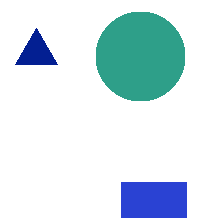circle: (96, 12, 184, 100)
rectangle: (121, 182, 186, 217)
triangle: (15, 28, 57, 64)
